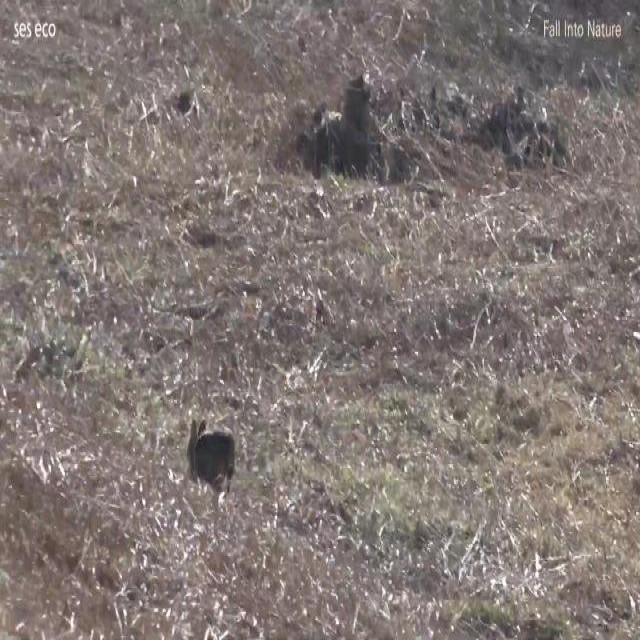deer: (186, 413, 238, 496)
